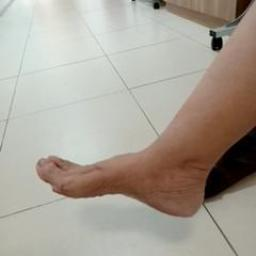Medial View -Right Foot-: (20, 104, 242, 234)
